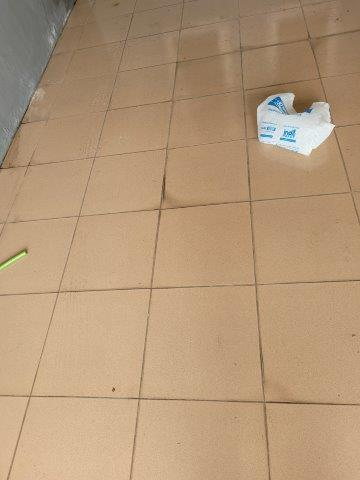plastik: (256, 93, 335, 160)
